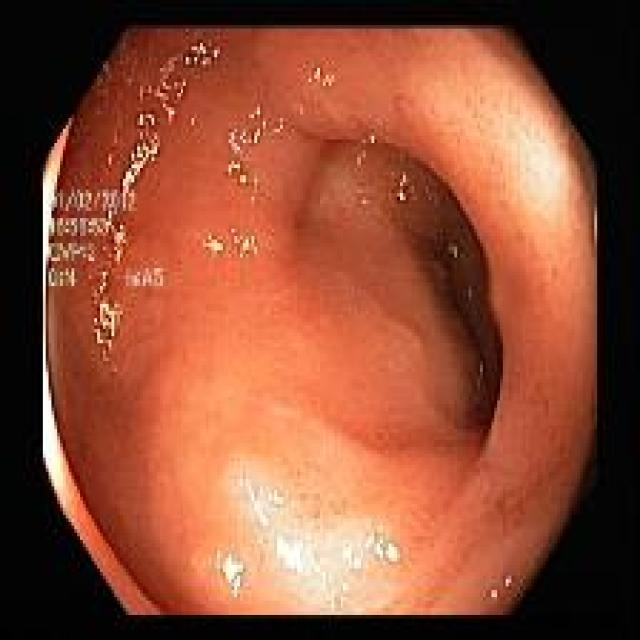ulcerative-colitis: (42, 28, 596, 615)
